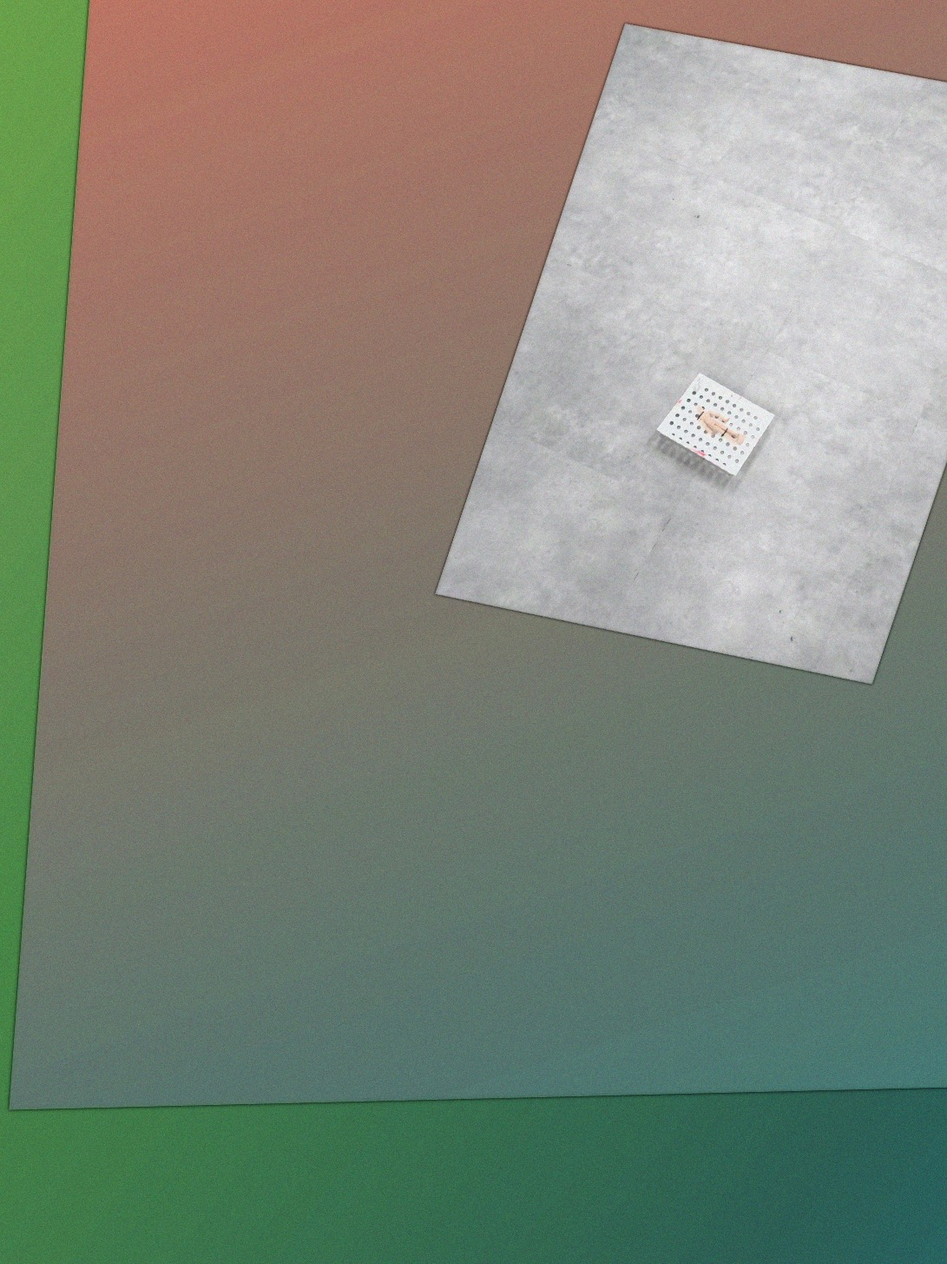basket: (648, 365, 779, 493)
mannequin: (692, 402, 748, 448)
